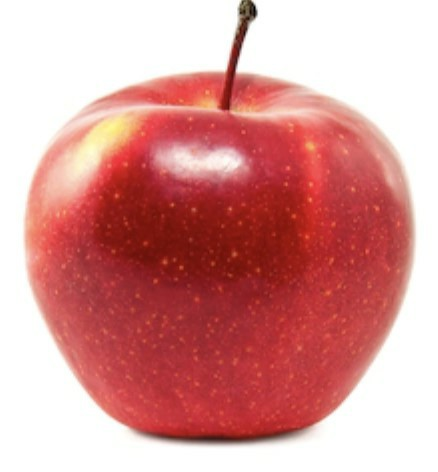fresh_apple: (29, 72, 416, 438)
